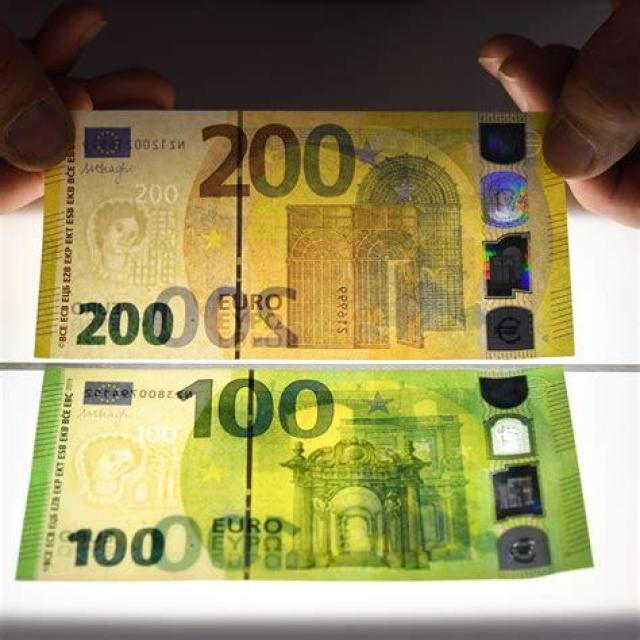banknote: (28, 107, 579, 361), (7, 363, 597, 584), (196, 122, 362, 208), (149, 270, 315, 352), (174, 366, 343, 444), (69, 297, 182, 349), (66, 522, 176, 572), (122, 178, 186, 212)
